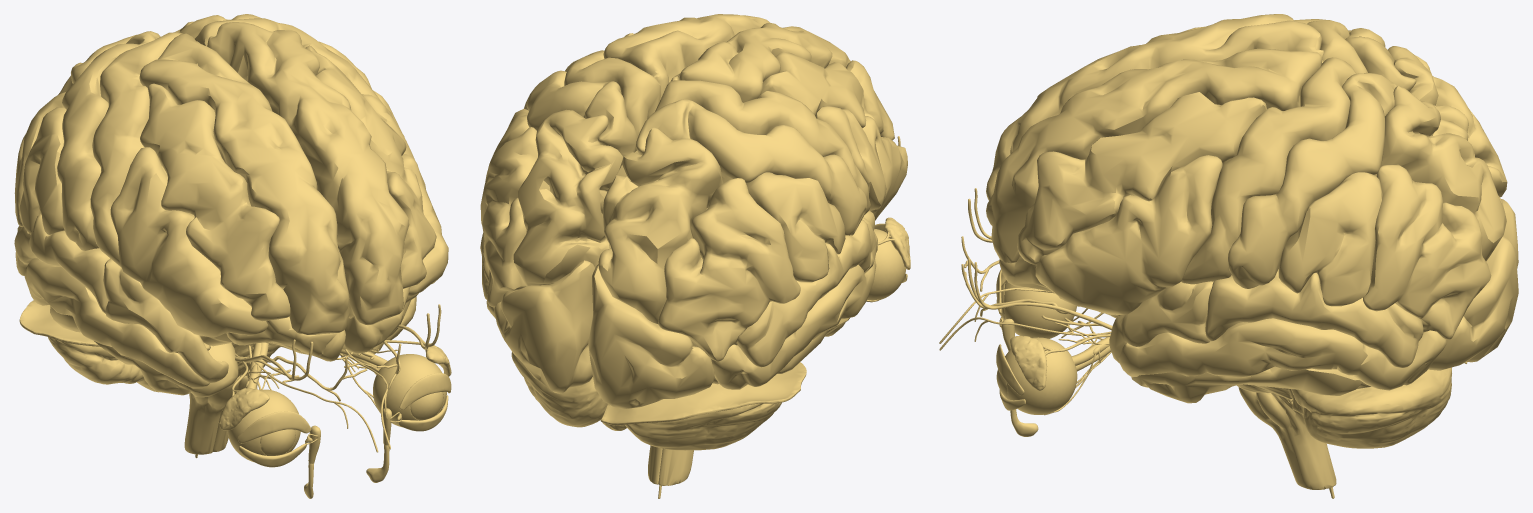
File: nervous.glb
3 renders of one model, left to right at view 1: azimuth 30°, elevation 25°; view 2: azimuth 150°, elevation 25°; view 3: azimuth 270°, elevation 25°, orthographic. The views are drawn at different scales.
Visible parts, largest first — view 1: FMA72653, FMA72654, FMA72655, FMA72657, FMA72661, FMA72665, FMA72685, FMA72656, FMA72800, FMA256194, FMA72667, FMA72804 (+20 smaller); view 2: FMA72669, FMA72671, FMA72672, FMA72975, FMA72665, FMA72976, FMA67944, FMA72653, FMA72670, FMA72667, FMA72661, FMA72654 (+12 smaller); view 3: FMA72654, FMA72656, FMA72658, FMA72670, FMA72686, FMA72666, FMA72662, FMA72653, FMA72668, FMA72672, FMA72805, FMA67944 (+12 smaller).
Boxes of the visible parts, <box> form: FMA72653: <box>139,33,349,334</box>; FMA72654: <box>207,22,409,325</box>; FMA72655: <box>140,83,290,321</box>; FMA72657: <box>110,147,268,337</box>; FMA72661: <box>90,32,182,267</box>; FMA72665: <box>57,31,160,250</box>; FMA72685: <box>24,258,209,388</box>; FMA72656: <box>305,45,436,288</box>; FMA72800: <box>103,258,228,382</box>; FMA256194: <box>199,286,418,361</box>; FMA72667: <box>19,107,66,234</box>; FMA72804: <box>14,213,109,313</box>; FMA72669: <box>658,178,800,361</box>; FMA72671: <box>598,127,723,323</box>; FMA72672: <box>513,109,623,286</box>; FMA72975: <box>588,264,714,409</box>; FMA72665: <box>636,99,867,235</box>; FMA72976: <box>494,260,595,393</box>; FMA67944: <box>511,352,781,450</box>; FMA72653: <box>671,23,850,102</box>; FMA72670: <box>480,127,537,307</box>; FMA72667: <box>746,172,845,282</box>; FMA72661: <box>655,80,870,214</box>; FMA72654: <box>603,14,770,99</box>; FMA72654: <box>986,48,1323,263</box>; FMA72656: <box>1017,92,1266,264</box>; FMA72658: <box>1035,155,1222,314</box>; FMA72670: <box>1363,164,1491,339</box>; FMA72686: <box>1118,318,1446,390</box>; FMA72666: <box>1228,73,1396,288</box>; FMA72662: <box>1181,57,1356,284</box>; FMA72653: <box>986,14,1323,200</box>; FMA72668: <box>1278,172,1383,306</box>; FMA72672: <box>1374,86,1506,261</box>; FMA72805: <box>1205,269,1423,368</box>; FMA67944: <box>1289,367,1451,448</box>.
Bounding box in the file's own units: 0.2877 × 0.351 × 0.3999.
